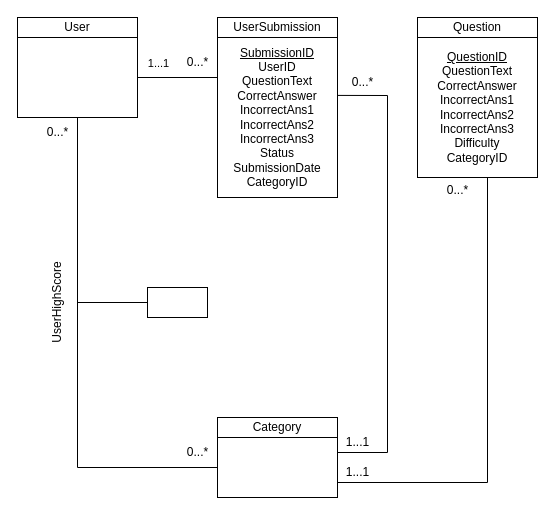
Image size: 555x515. Some labels were removed from this diagram. The shapes that lost their labels are listed below. From the top down, each one's centre as x and y in pixels, then its label:
At (77,77): "UserID Username Email PasswordHash RegistrationDate".
At (177,302): "HighScore".
At (277,467): "CategoryID Type Subcategory".
